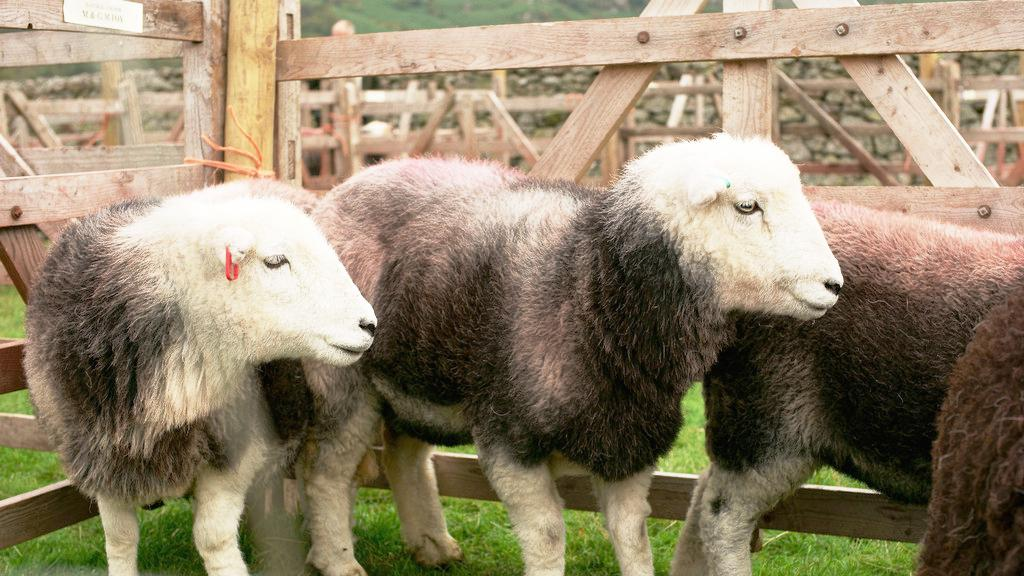Sheep: (299, 151, 846, 576), (24, 185, 382, 573), (668, 196, 1024, 576), (908, 264, 1024, 576)
